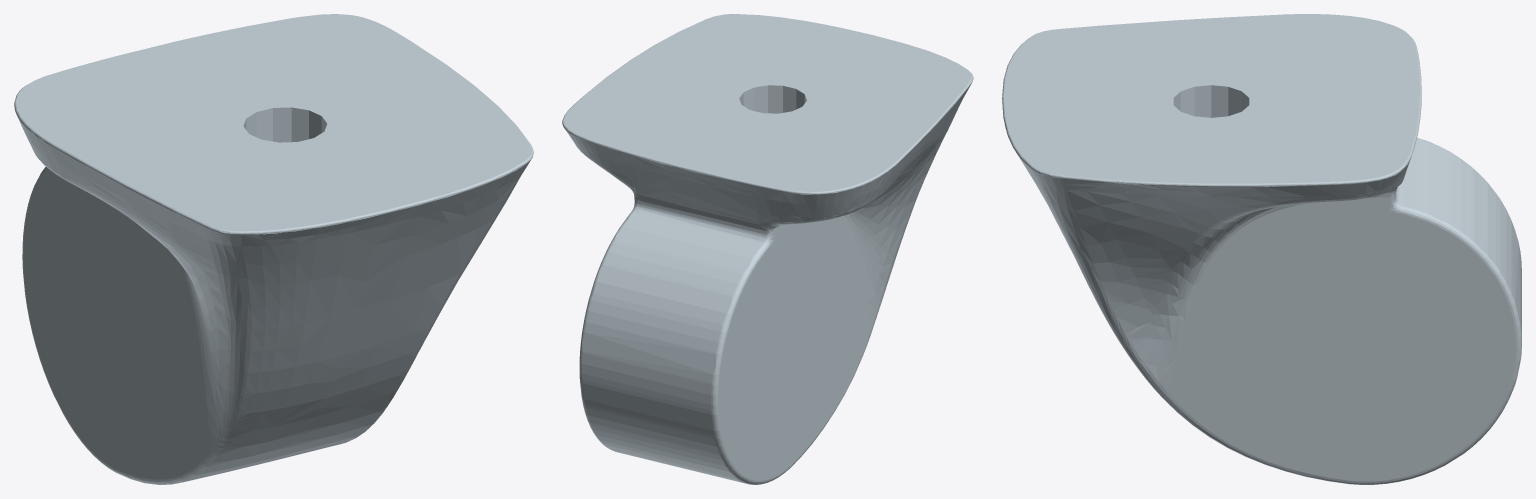
The model's file is right_shoulder_pitch_link.dae.
3 renders of one model, left to right at view 1: azimuth 30°, elevation 25°; view 2: azimuth 150°, elevation 25°; view 3: azimuth 270°, elevation 25°, orthographic. The views are drawn at different scales.
Parts seen in each view (by area): view 1: right_shoulder_pitch_link; view 2: right_shoulder_pitch_link; view 3: right_shoulder_pitch_link.
Boxes of the visible parts, x1=… form: right_shoulder_pitch_link: x1=14, y1=14, x2=533, y2=484; right_shoulder_pitch_link: x1=562, y1=14, x2=973, y2=484; right_shoulder_pitch_link: x1=1002, y1=14, x2=1521, y2=484.
Size of the model in its own units: 0.1042 by 0.1 by 0.1339.
